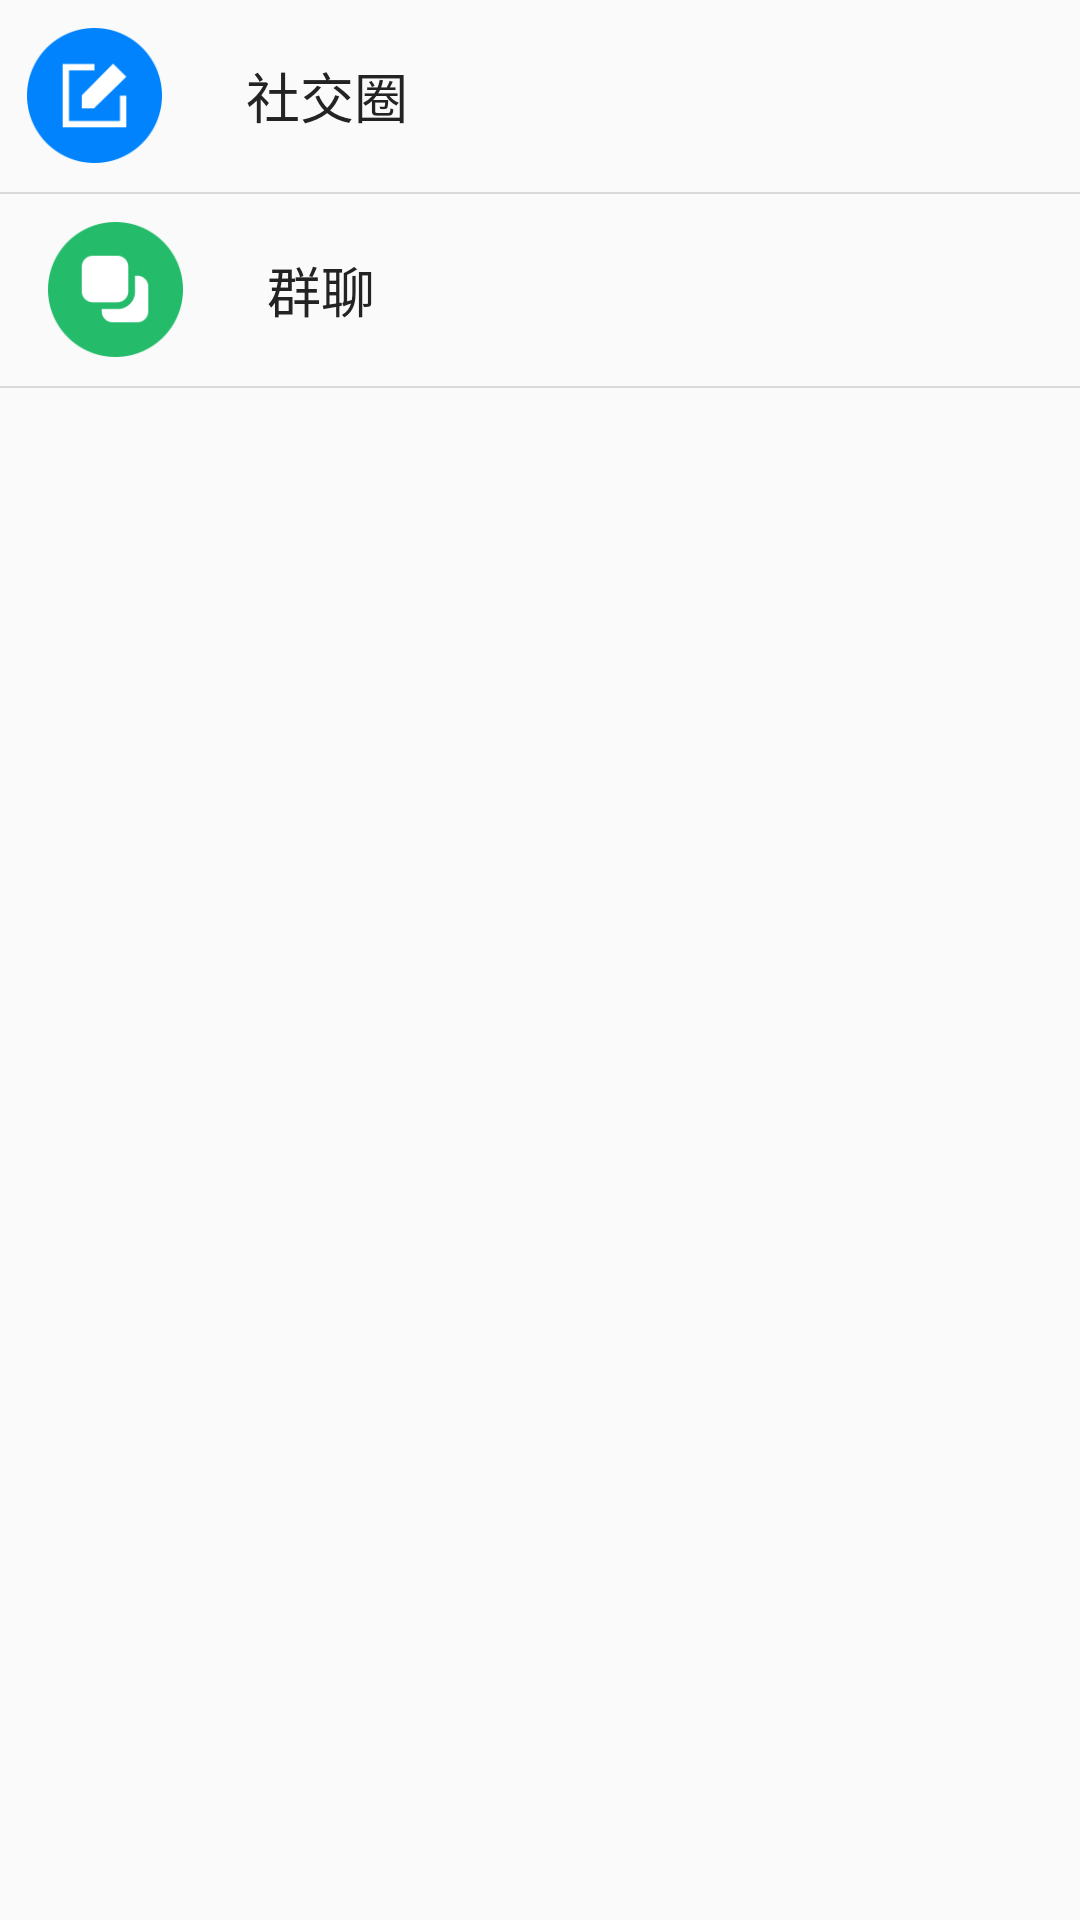

Where to tap for icons on this 1080px×1920px app screen, as (x=x, y=y):
qunlaio: (x=115, y=289)
